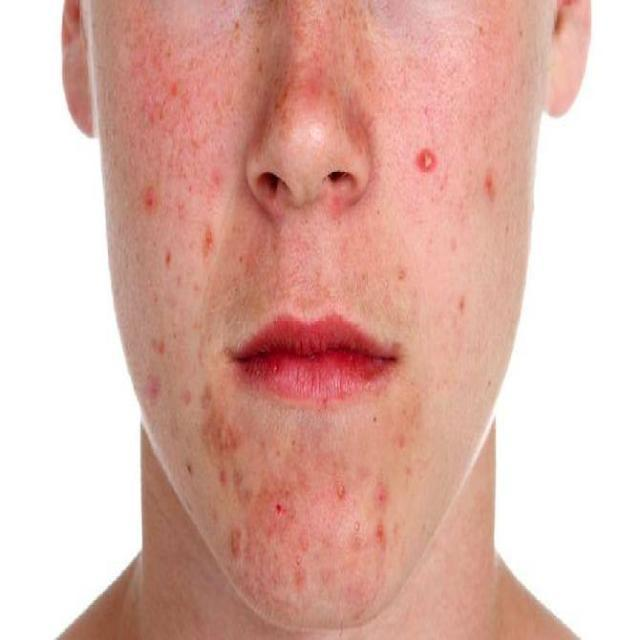Acne: (194, 394, 404, 608), (126, 25, 219, 413), (384, 127, 511, 316)
